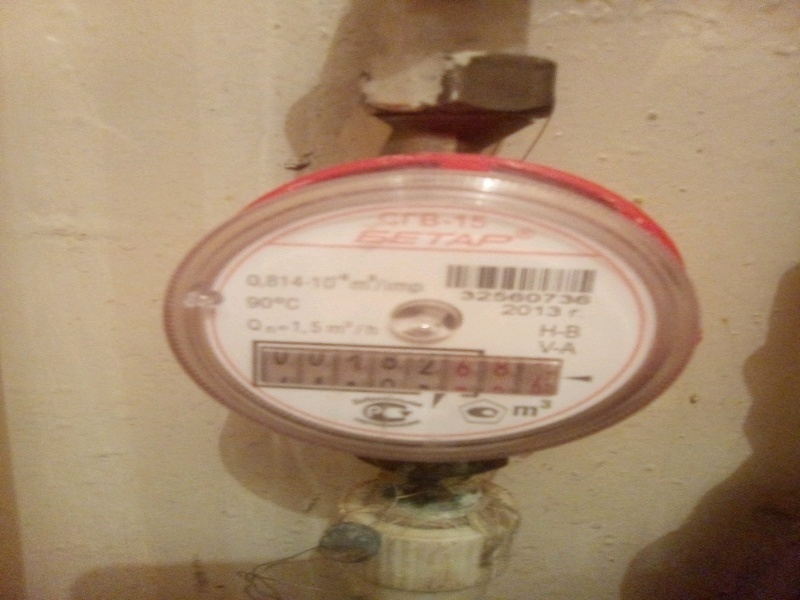meter: (256, 349, 557, 394)
